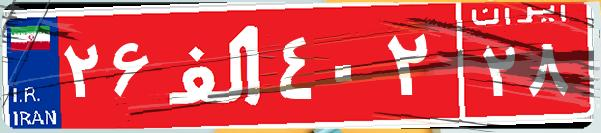0: (330, 28, 385, 110)
2: (385, 28, 445, 110), (57, 26, 110, 107), (475, 38, 525, 113)
4: (273, 28, 330, 110)
6: (110, 28, 158, 105)
8: (525, 38, 570, 115)
الف: (158, 15, 273, 115)
